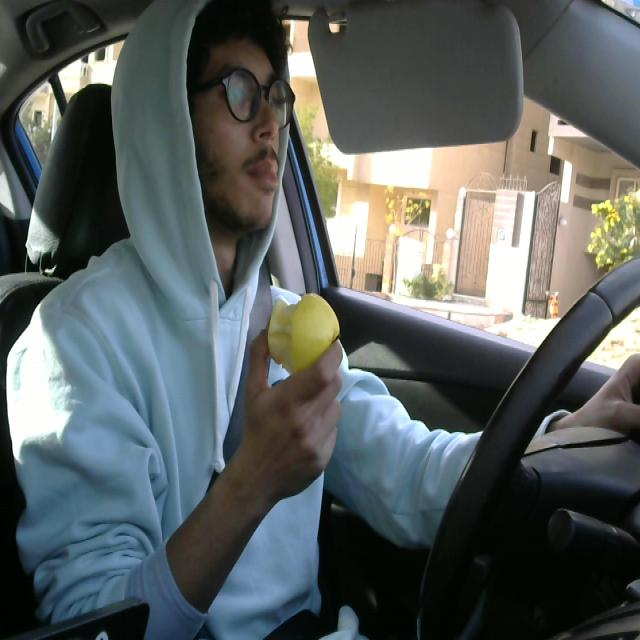eating: (257, 272, 344, 374)
